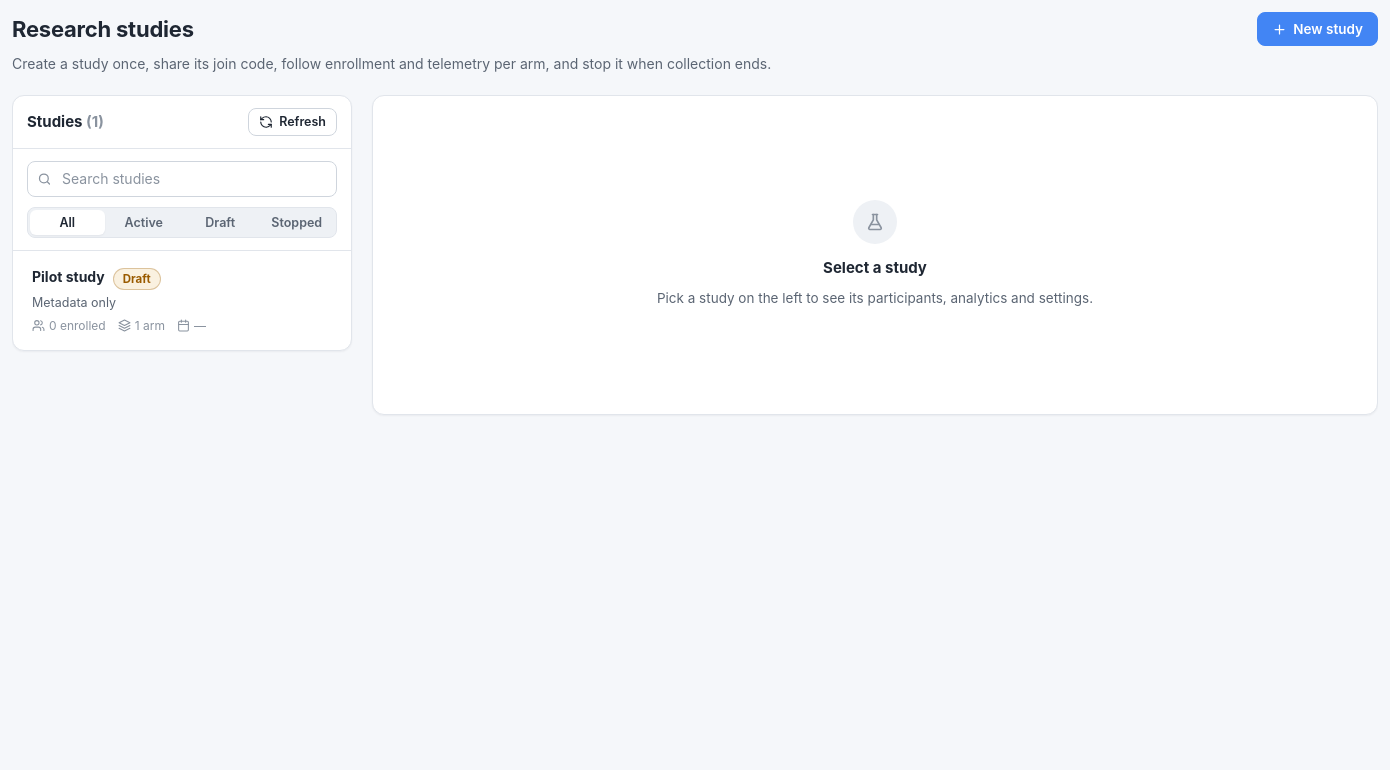
Test: shows selected profiles as read-only study configuration
Click the text "Pilot study": (68, 277) [32, 268, 105, 287]
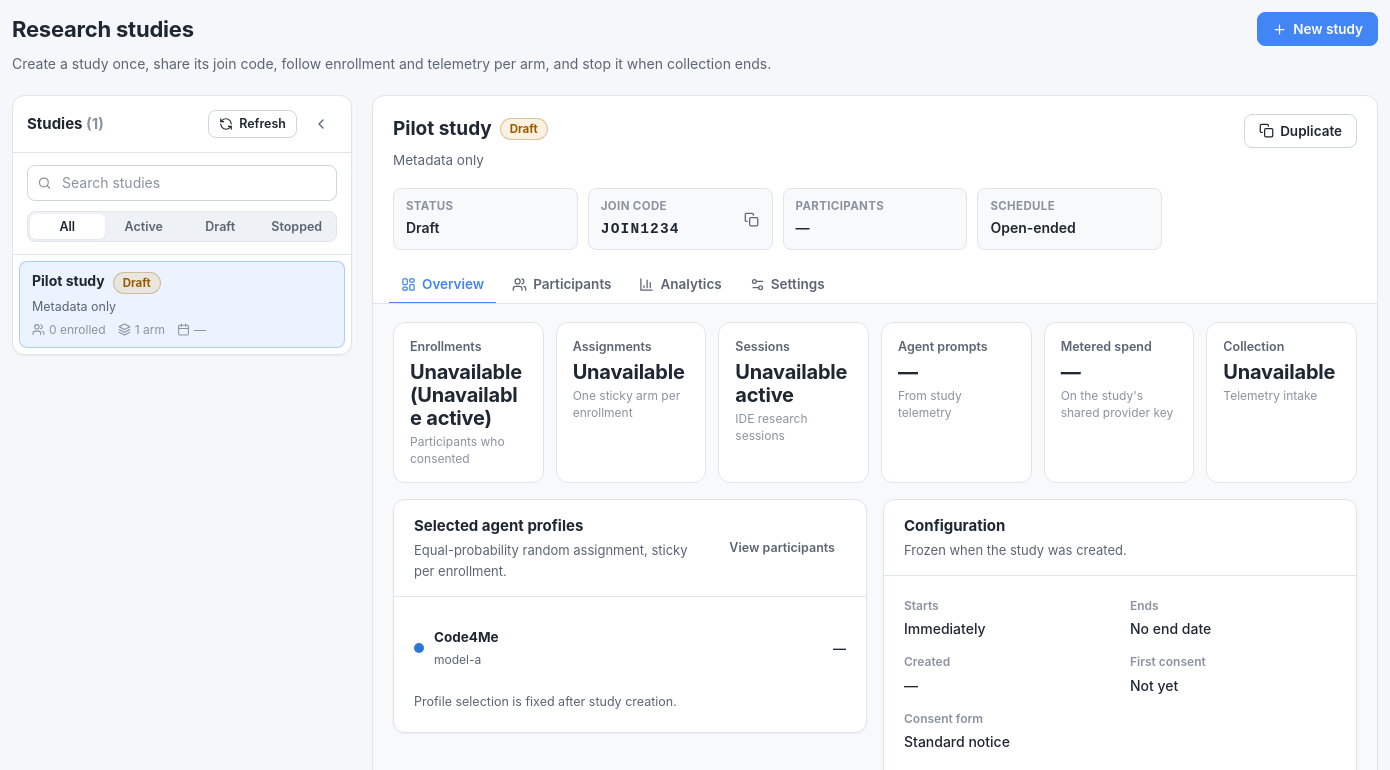
Check: the heading "Selected agent profiles" is shown, box [414, 516, 583, 535]
Check: the text "Code4Me" is shown, box [434, 629, 499, 645]
Check: the text "Profile selection is fixed after study creation." is shown, box [414, 694, 677, 709]
